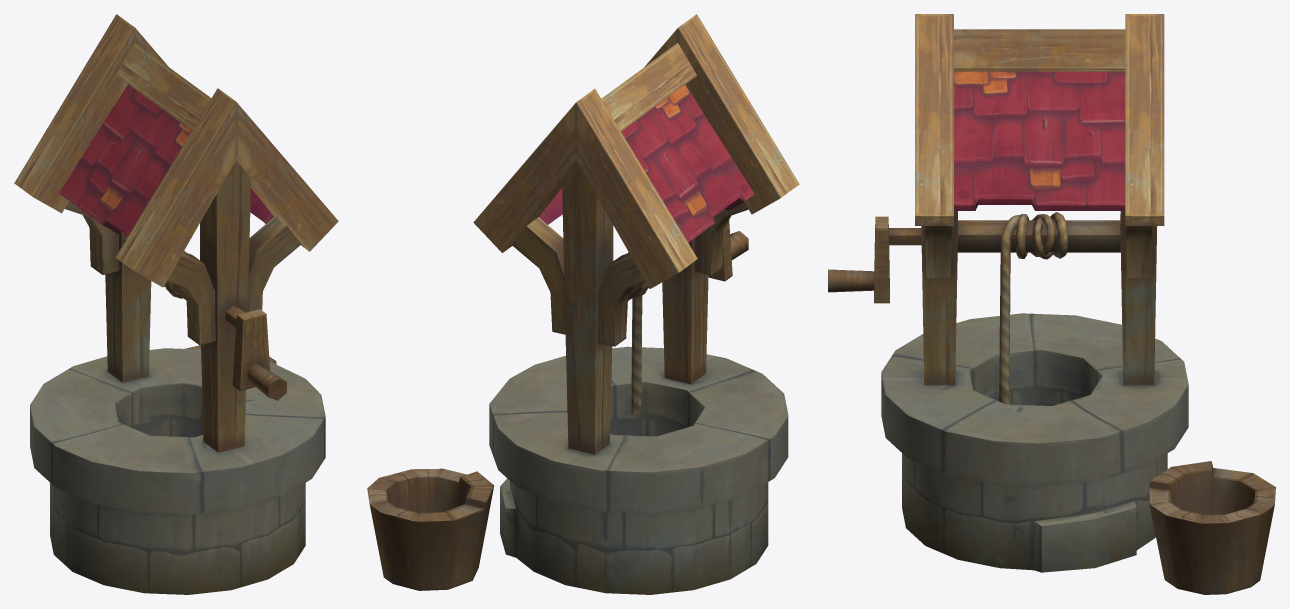
File: well.FBX
The picture shows the model from 3 angles, left to right: view 1: azimuth 30°, elevation 25°; view 2: azimuth 150°, elevation 25°; view 3: azimuth 270°, elevation 25°; orthographic projection. The views are drawn at different scales.
Parts seen in each view (by area): view 1: well; view 2: well; view 3: well.
Part boxes in pixels (<box>): well: <box>14,14,338,594</box>; well: <box>367,14,799,594</box>; well: <box>828,14,1275,594</box>.
Bounding box in the file's own units: 5.14 × 7.7 × 6.25.
